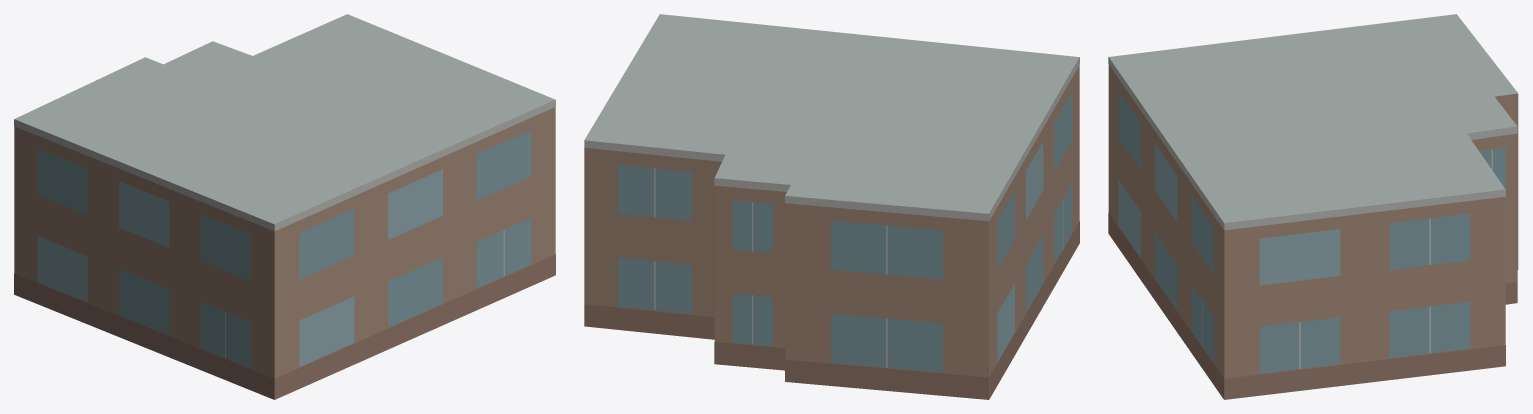
The model's file is survey-upis-32711334.glb.
3 views of the same model, side by side, from view 1: azimuth 30°, elevation 25°; view 2: azimuth 150°, elevation 25°; view 3: azimuth 270°, elevation 25° (orthographic). The views are drawn at different scales.
Parts seen in each view (by area): view 1: survey-upis-32711334.tmp; view 2: survey-upis-32711334.tmp; view 3: survey-upis-32711334.tmp.
Part boxes in pixels (x1,y1,x2,y2): survey-upis-32711334.tmp: [14, 14, 555, 399]; survey-upis-32711334.tmp: [584, 14, 1079, 399]; survey-upis-32711334.tmp: [1108, 14, 1518, 399].
Size of the model in its own units: 15.51 by 6.1 by 12.84.
